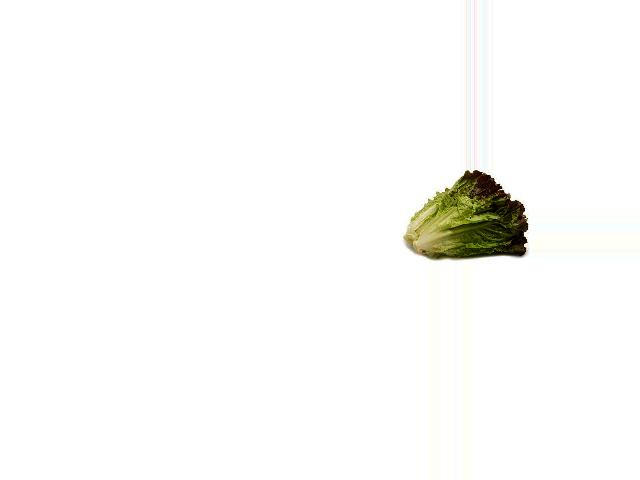lettuce: (406, 172, 530, 256)
